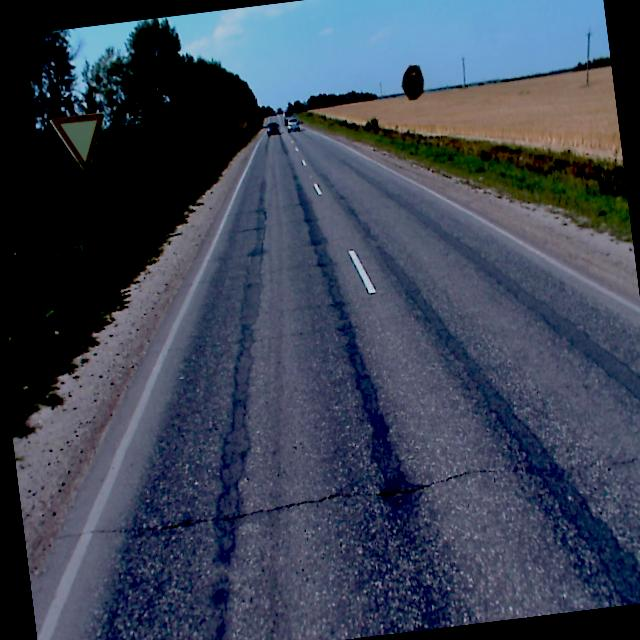road: (30, 113, 640, 640)
